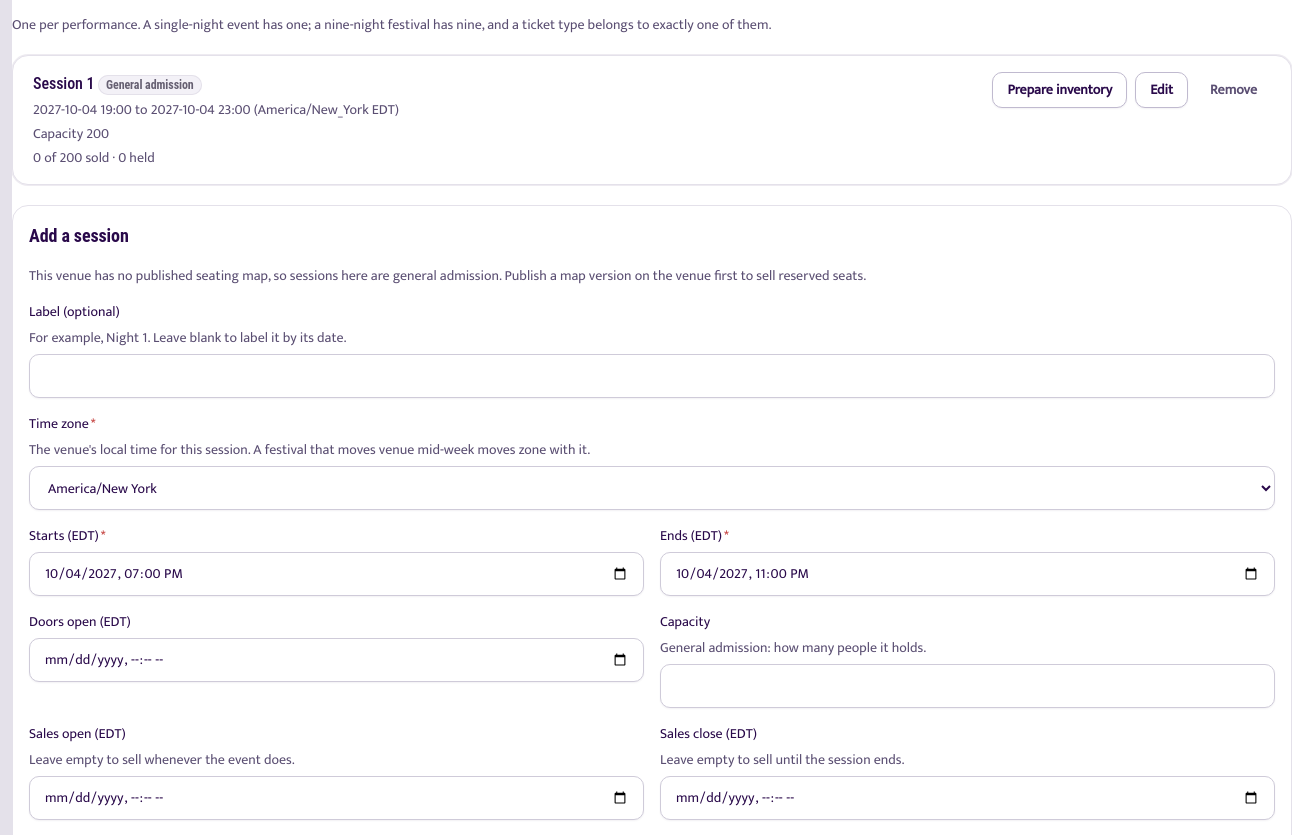
Scenario: editing a session › sends only what changed, with the revision
Step 1. Click the button with aria-label "Edit session 1" → click(1162, 90), box left=1135, top=72, right=1188, bottom=108
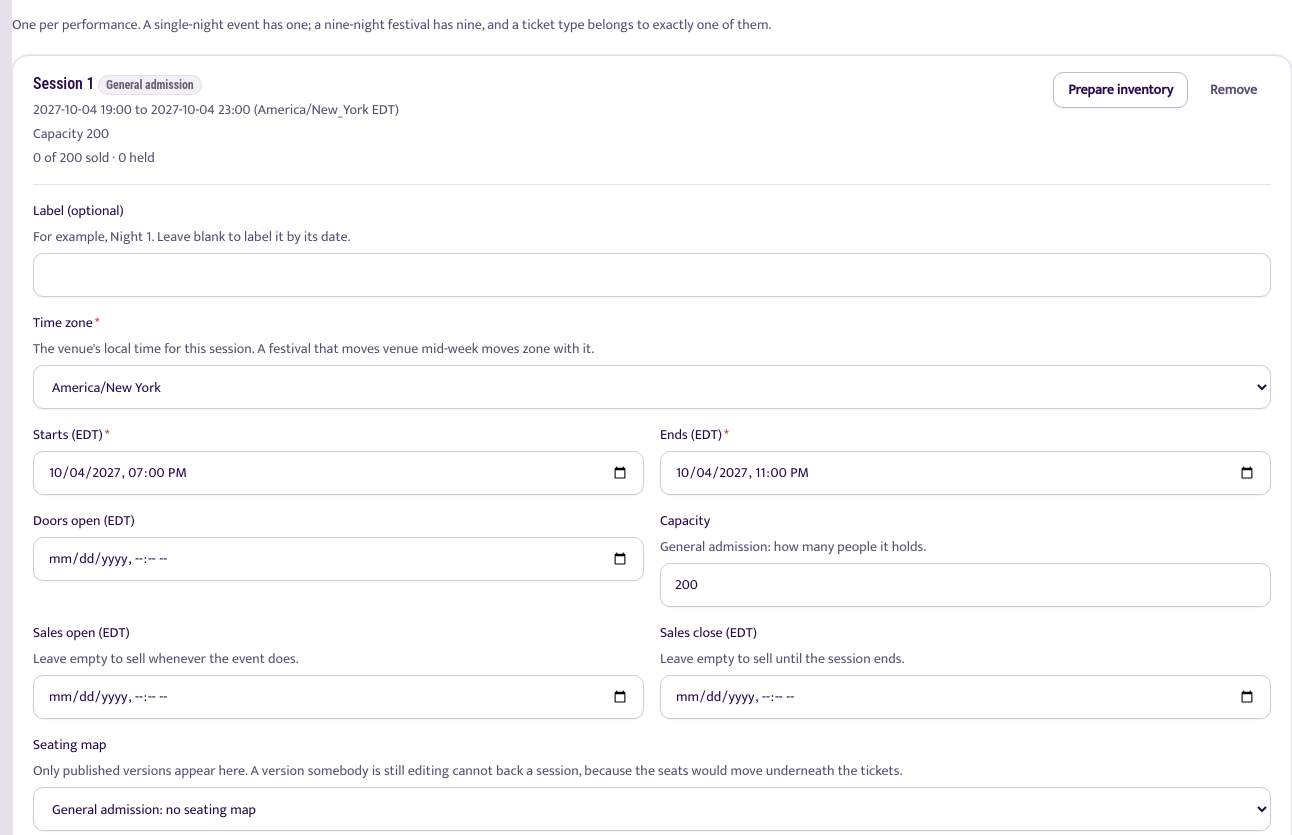
Step 2. Replace the text in the number field labelled "Capacity" with "250" → (966, 585), box left=660, top=563, right=1271, bottom=607
(page scrolled)
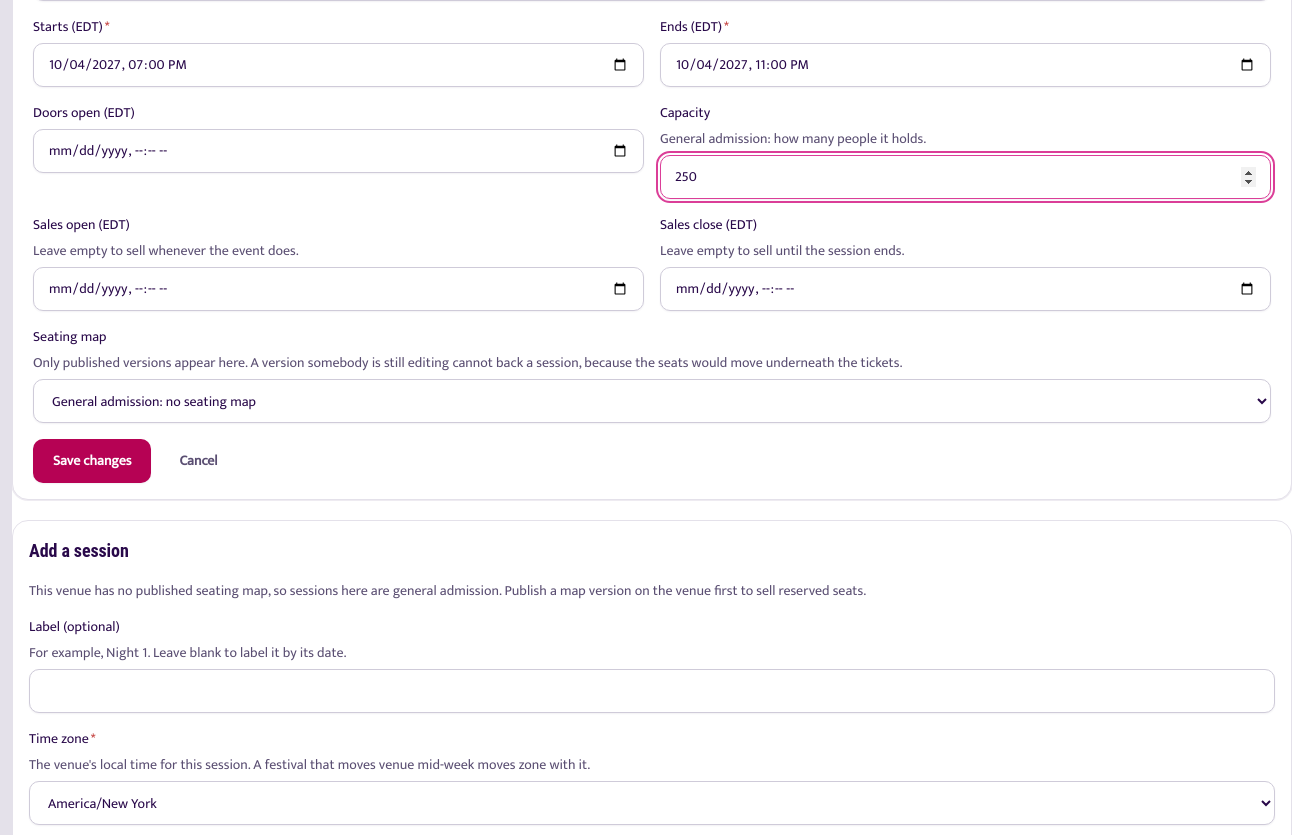
Step 3. Click the button "Save changes" → click(92, 461), box left=33, top=439, right=151, bottom=483
(page scrolled)
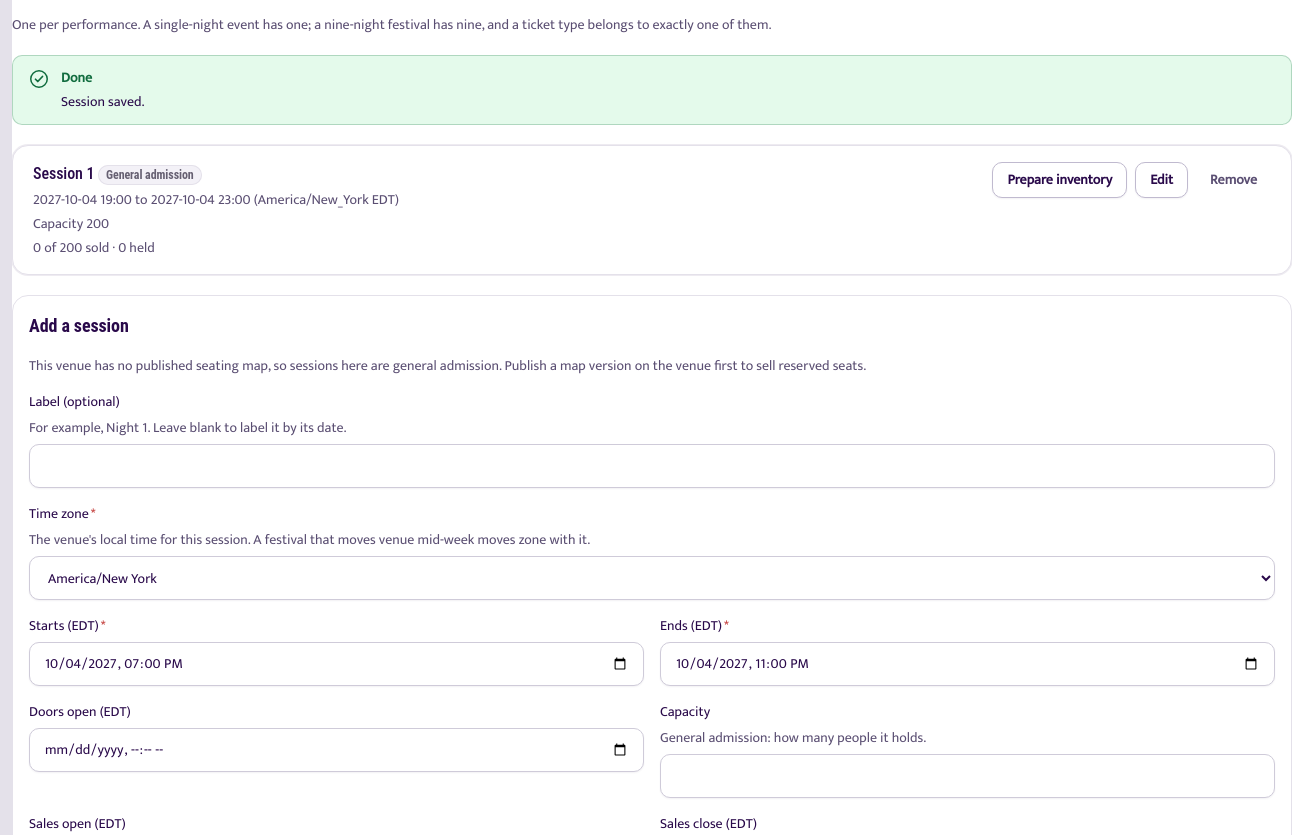
Expected: the text "Session saved." is shown, left=61, top=90, right=144, bottom=113
